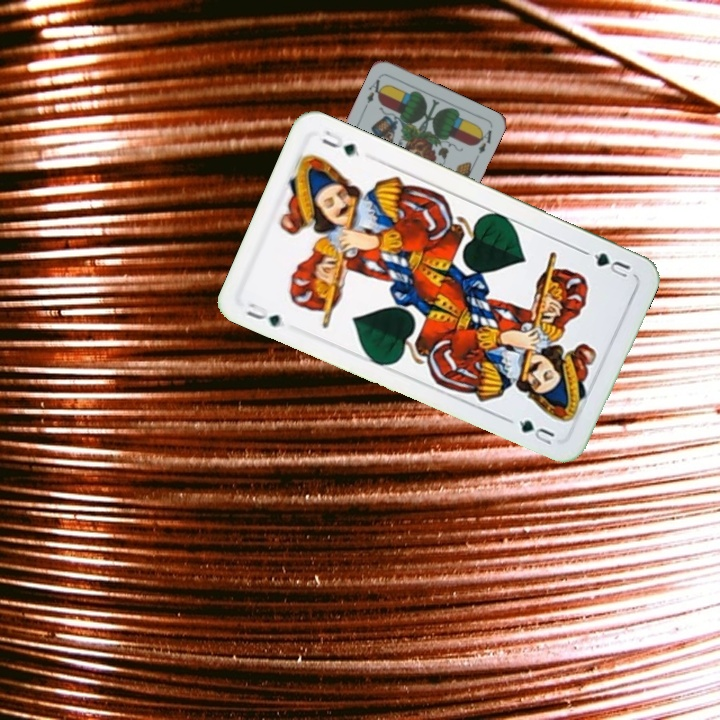EA: (363, 72, 388, 106)
GU: (590, 248, 633, 281), (242, 298, 283, 330)
